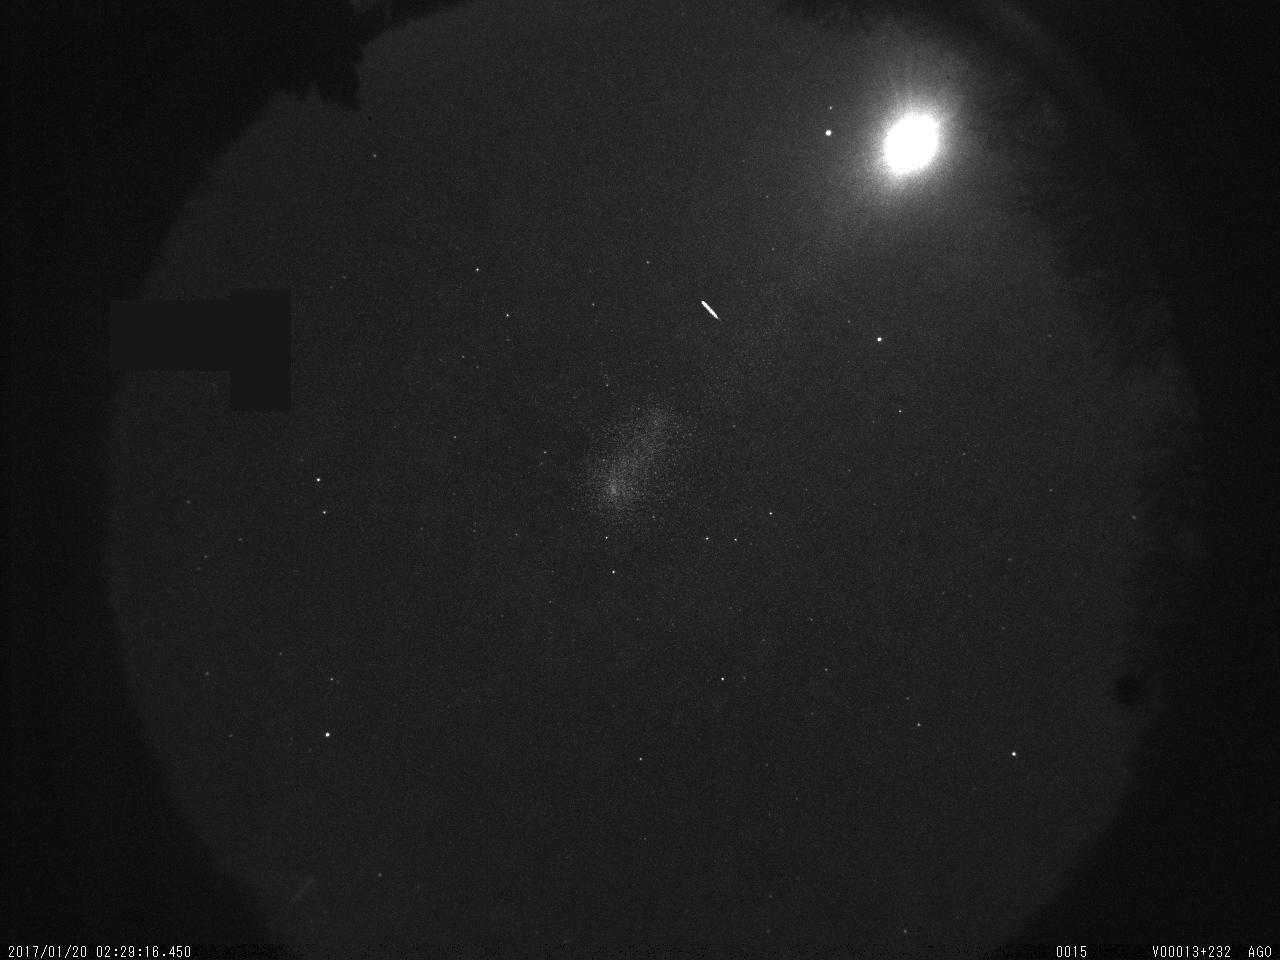Meteor: (700, 297, 720, 318)
